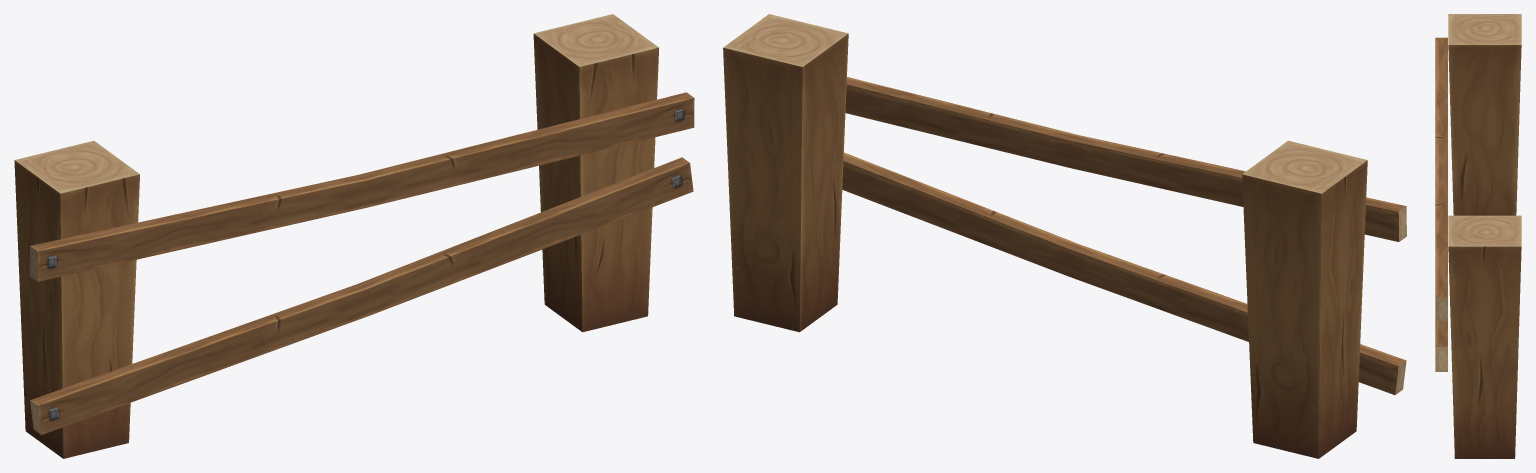
File: wooden_fence_08.fbx
3 renders of one model, left to right at view 1: azimuth 30°, elevation 25°; view 2: azimuth 150°, elevation 25°; view 3: azimuth 270°, elevation 25°, orthographic. The views are drawn at different scales.
Visible parts, largest first — view 1: wooden_fence_08:Mesh; view 2: wooden_fence_08:Mesh; view 3: wooden_fence_08:Mesh.
Part boxes in pixels (bbox=[...]): wooden_fence_08:Mesh: bbox=[14, 14, 694, 458]; wooden_fence_08:Mesh: bbox=[723, 14, 1406, 458]; wooden_fence_08:Mesh: bbox=[1435, 14, 1521, 458].
Bounding box in the file's own units: 6.87 × 2.7 × 0.9796.
